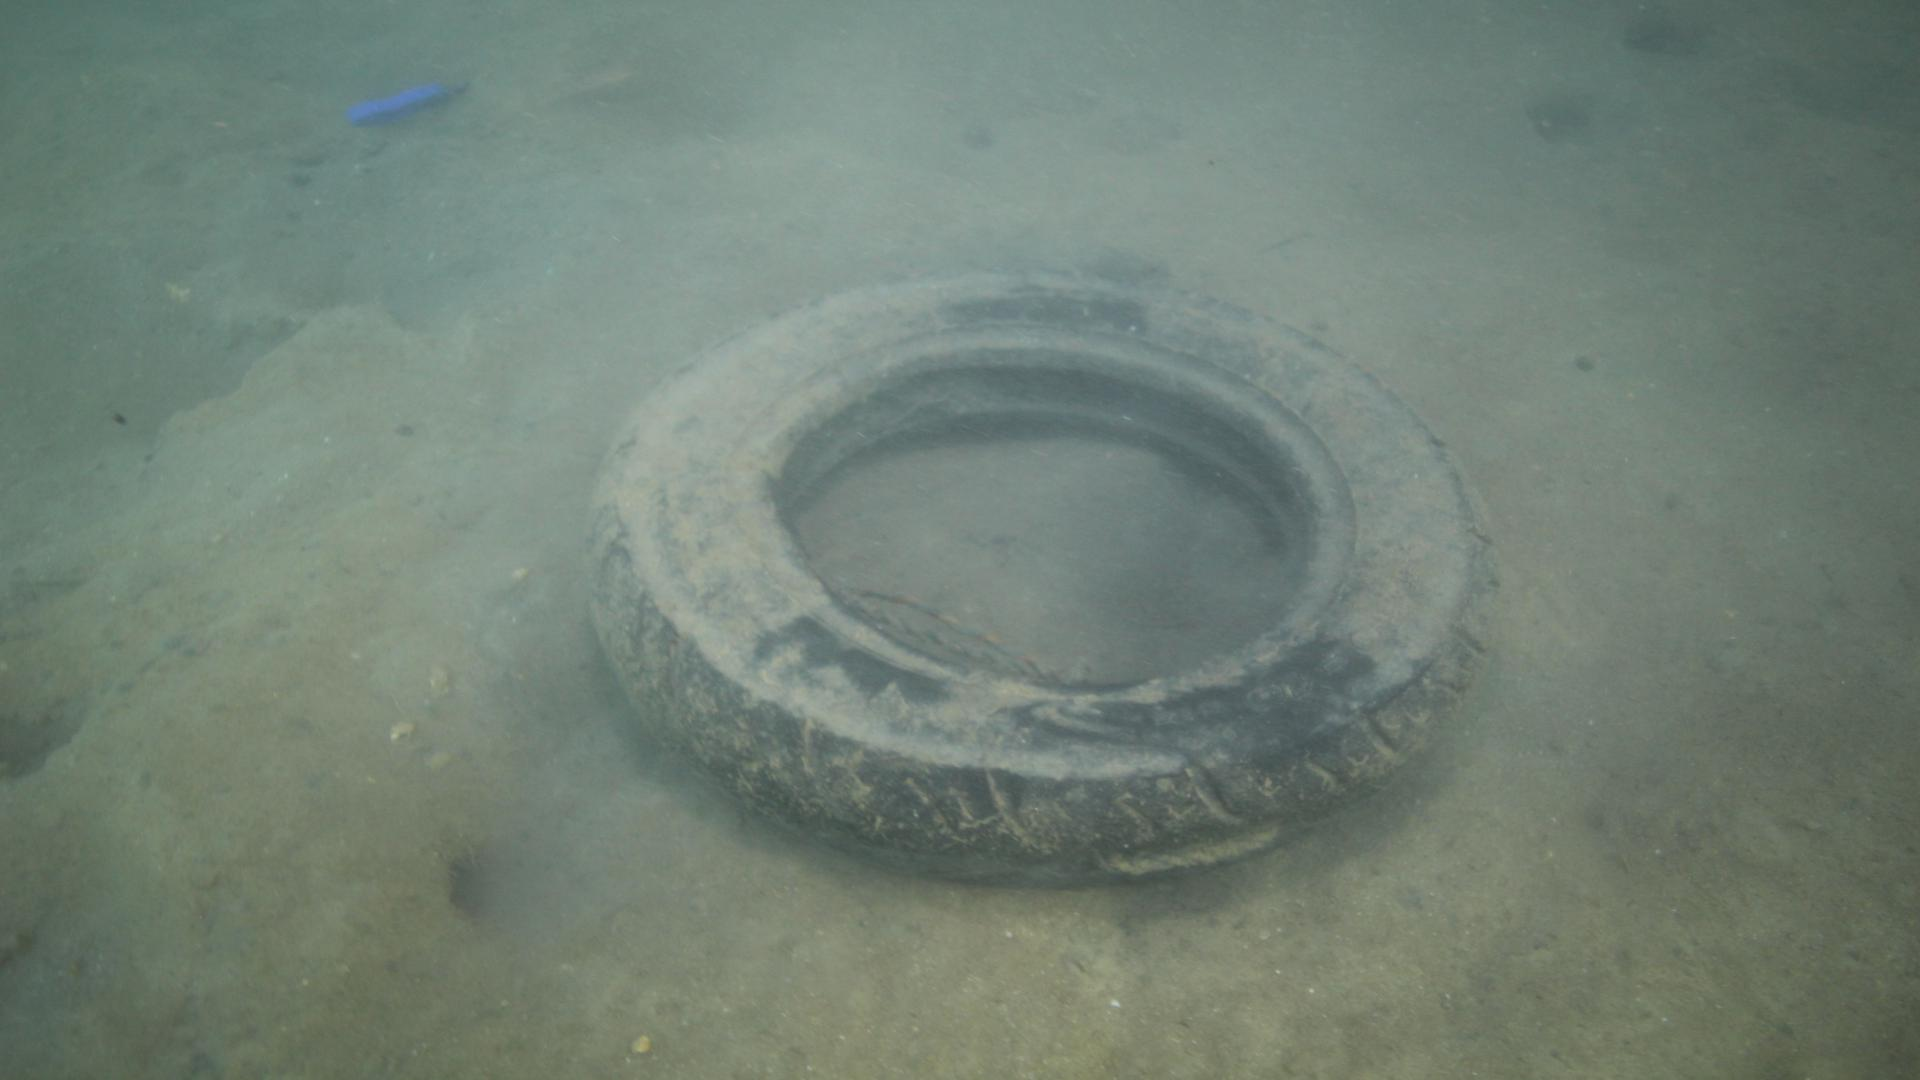rope: (832, 585, 1092, 686)
tire: (582, 272, 1505, 887)
